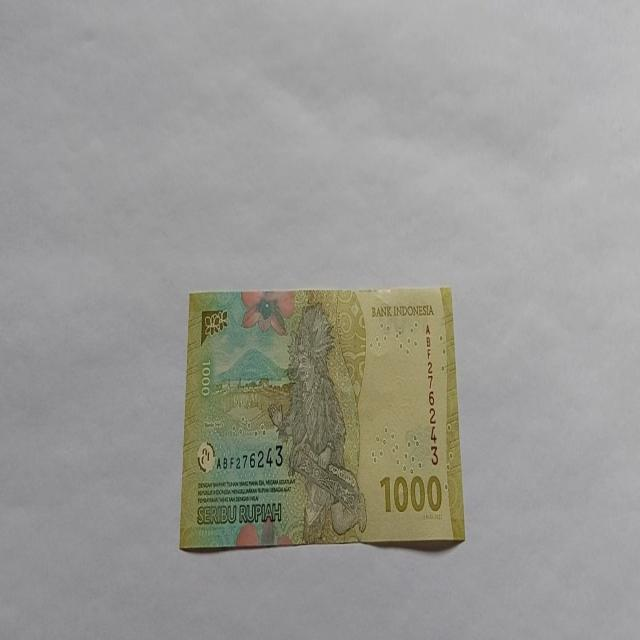seribu rupiah kertas: (178, 284, 466, 552)
